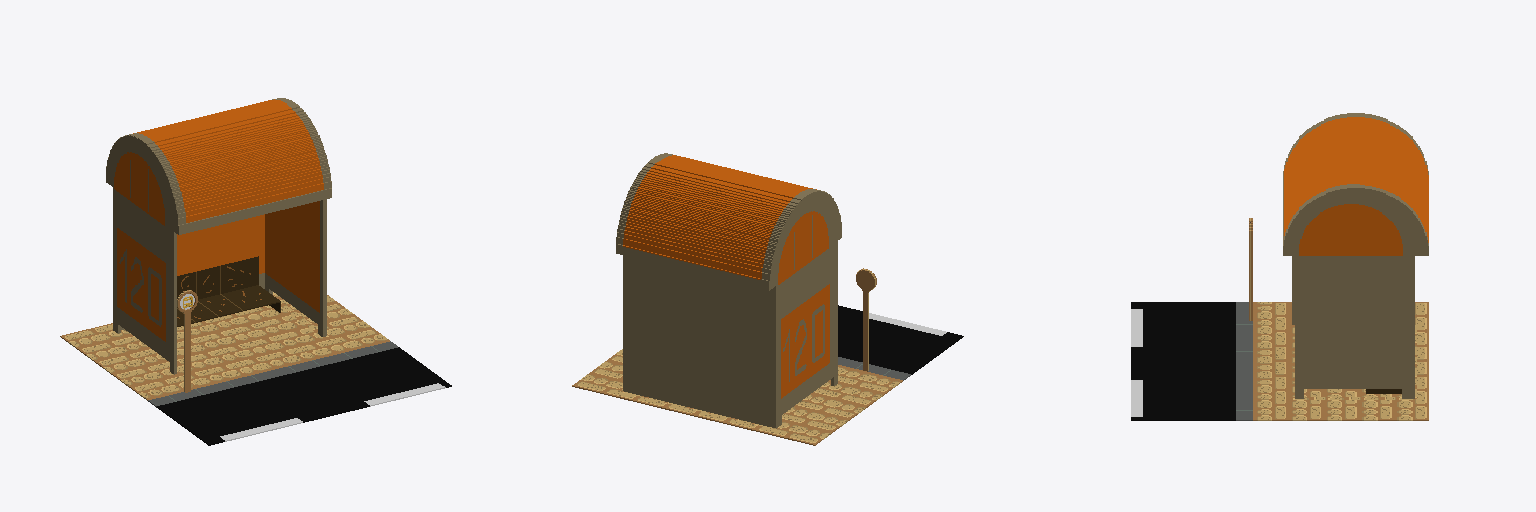
The picture shows the model from 3 angles: view 1: azimuth 30°, elevation 25°; view 2: azimuth 150°, elevation 25°; view 3: azimuth 270°, elevation 25°; orthographic projection.
Visible parts, largest first — view 1: object 1; view 2: object 1; view 3: object 1.
Boxes of the visible parts, x1=… form: object 1: x1=60, y1=98, x2=451, y2=445; object 1: x1=572, y1=153, x2=963, y2=445; object 1: x1=1131, y1=113, x2=1428, y2=420.
Bounding box in the file's own units: 24 × 20 × 25.5.
Materials: 1 (1 with a texture image).